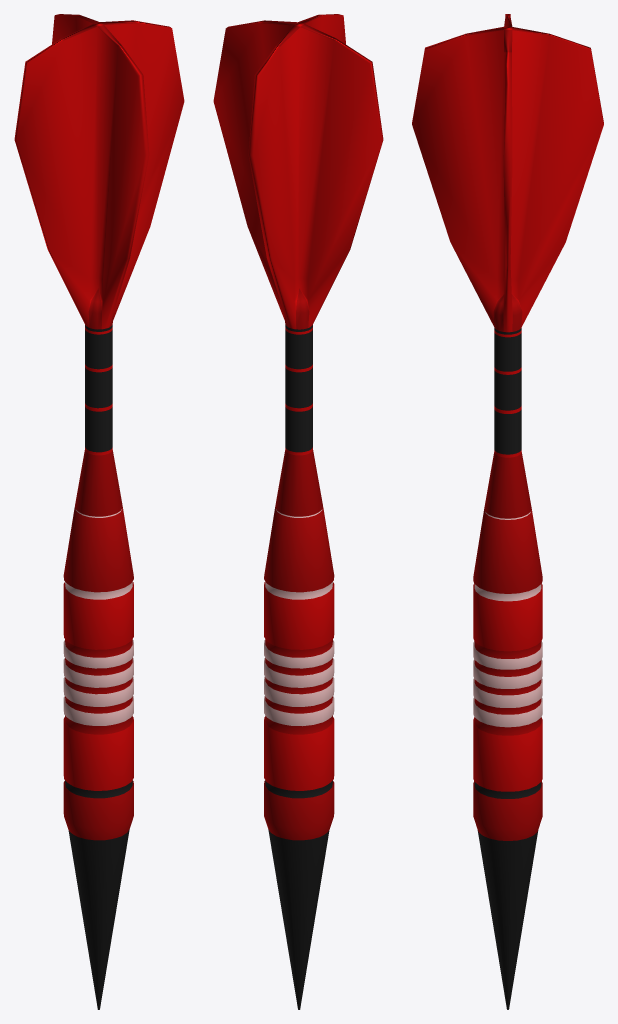
Rendered from Model_Dart.fbx.
3 renders of one model, left to right at view 1: azimuth 30°, elevation 25°; view 2: azimuth 150°, elevation 25°; view 3: azimuth 270°, elevation 25°, orthographic.
Visible parts, largest first — view 1: Dart; view 2: Dart; view 3: Dart.
Boxes of the visible parts, <box> form: Dart: <box>14,14,184,1009</box>; Dart: <box>213,14,383,1009</box>; Dart: <box>412,14,603,1009</box>.
Size of the model in its own units: 177 by 996 by 177.
